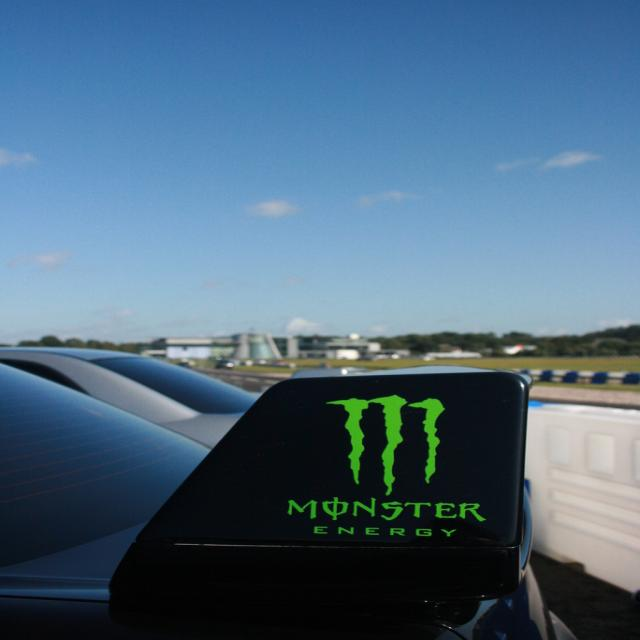car: (0, 343, 258, 453)
